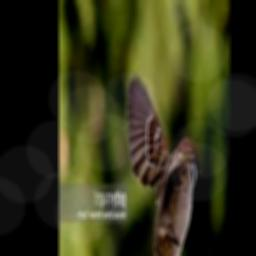Sparrow: (127, 72, 203, 256)
